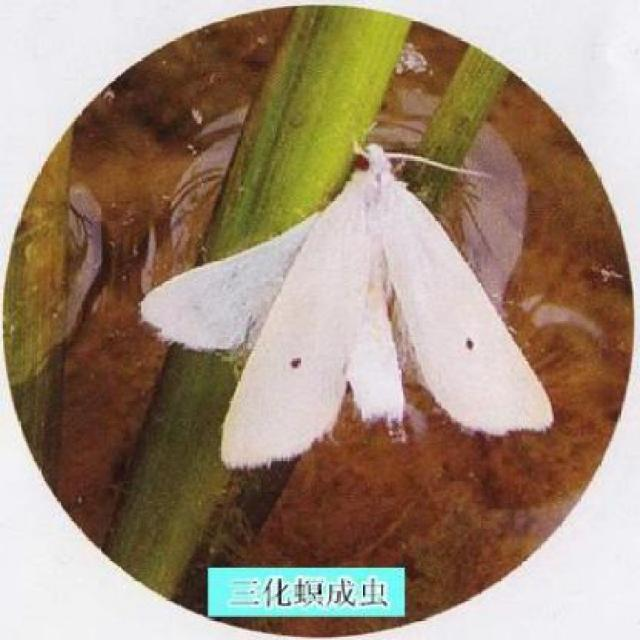stem-borer: (137, 137, 552, 464)
